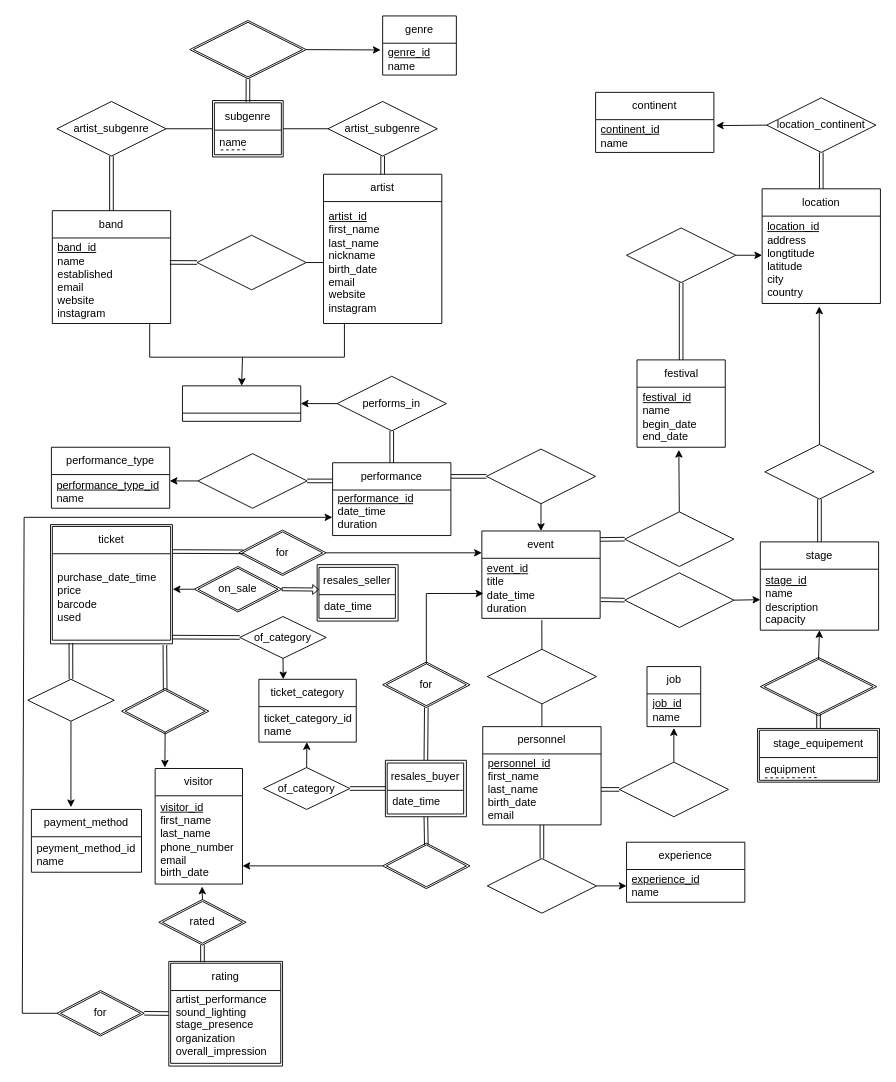
Image size: 896x1082. Some labels were removed from this diagram. The shapes that lost their labels are listed below. From the top down, each one's centre as x and y in pixels, then its label:
point 247,49: of
point 251,262: member_of
point 681,255: festival_location
point 241,403: performer
point 252,480: of_type
point 540,476: part_of
point 819,471: stage_location
point 679,538: belongs_to
point 679,599: hosted_at
point 541,676: assigned_to
point 818,686: has_equiped
point 70,699: payed_with
point 164,710: has
point 673,789: has_job
point 425,865: buys
point 541,885: has_experience
